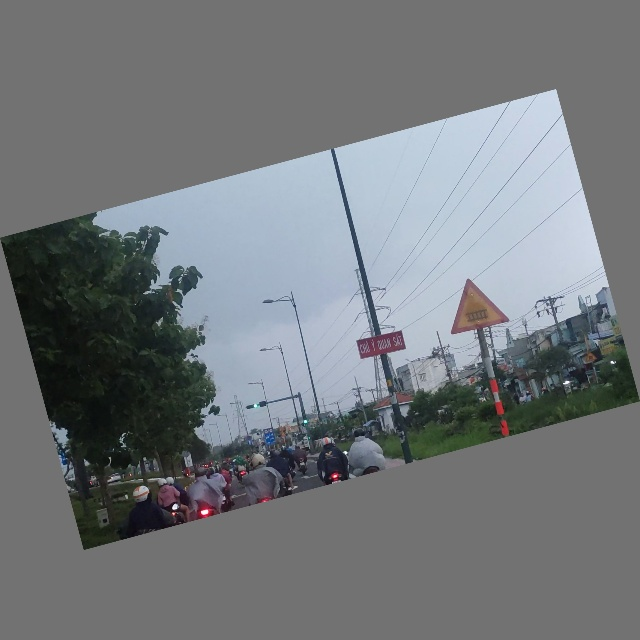I.407a: (247, 441, 253, 447)
W.210: (438, 271, 511, 339)
